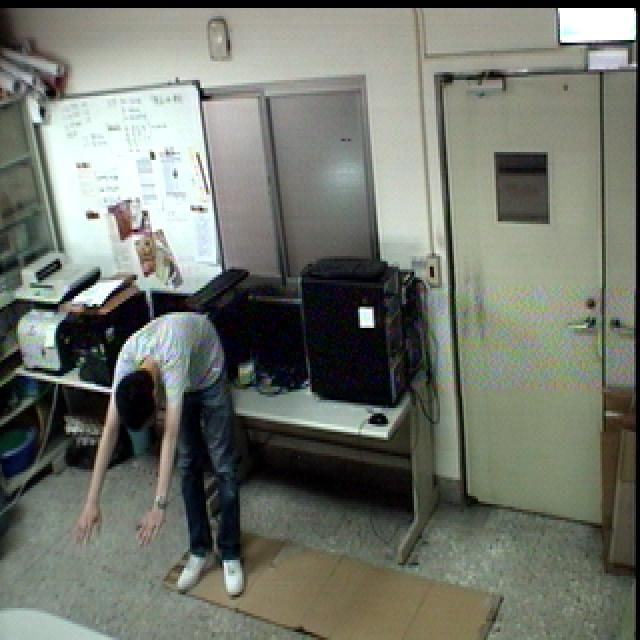bend: (71, 309, 247, 602)
